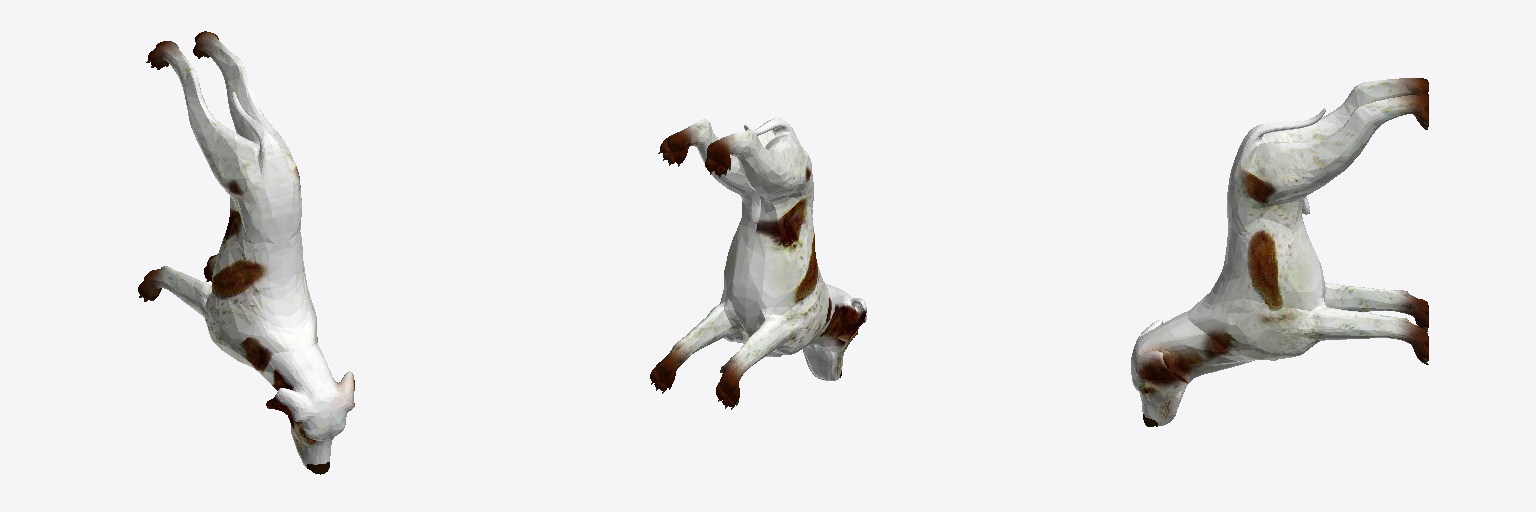
3 views of the same model, side by side, from view 1: azimuth 30°, elevation 25°; view 2: azimuth 150°, elevation 25°; view 3: azimuth 270°, elevation 25° (orthographic).
Bounding box in the file's own units: 1368 × 4992 × 3981.
7 materials, 4 textured.